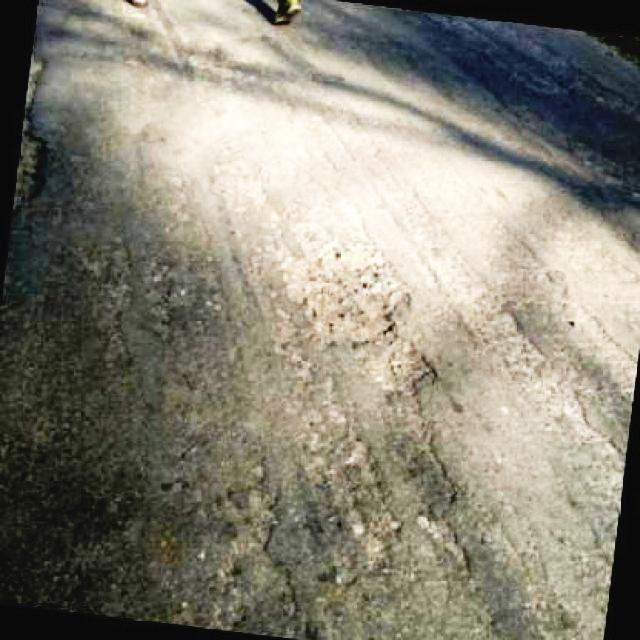pothole: (289, 234, 437, 397), (6, 130, 54, 212)
